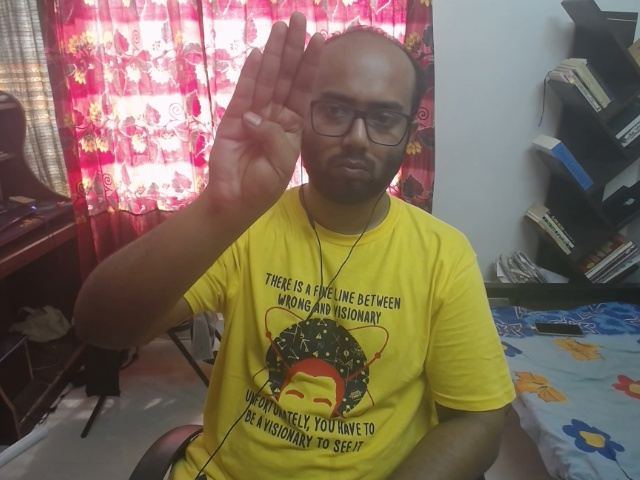counting: (208, 5, 329, 219)
